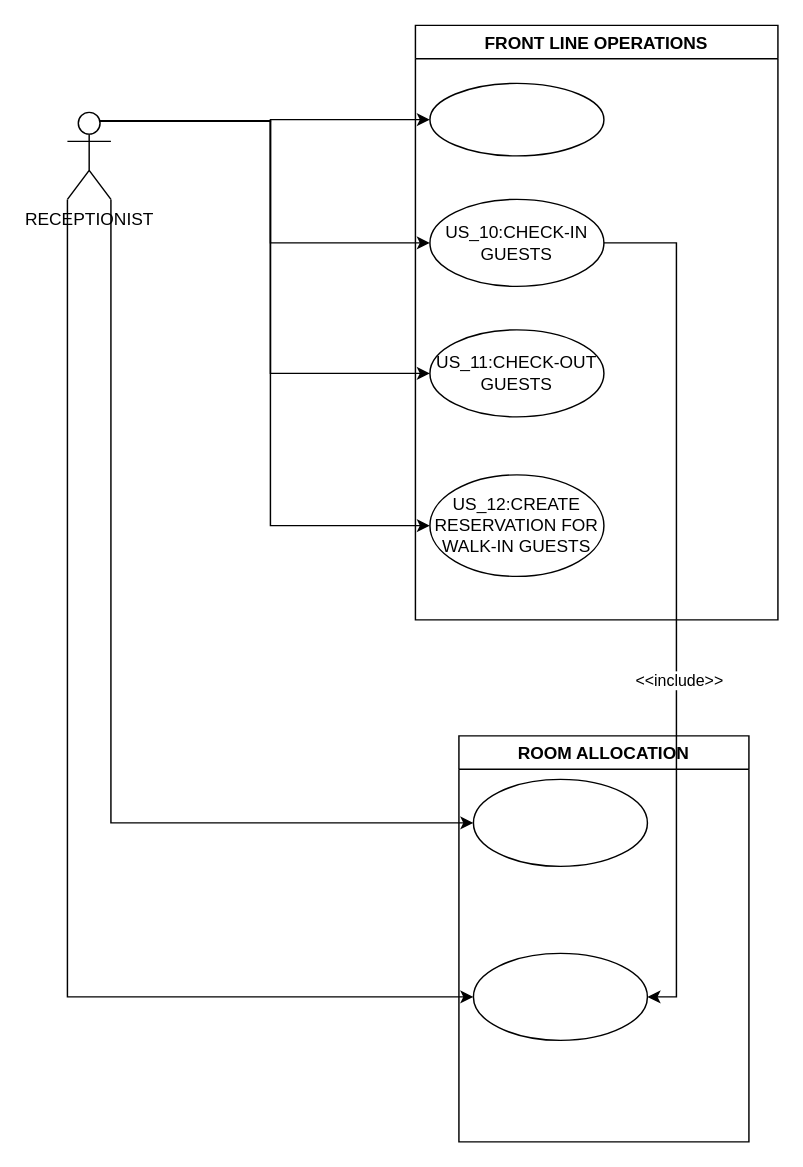
Some shapes in this 803 by 1167 pixel diagram are drawn without their labels. Here are the shapes that lost their labels. From the top down, the centre of each, then its label:
pixel 516 119: US_09:VIEW RESERVATIONS
pixel 559 822: US_13:UPDATE RESERVATION DETAILS
pixel 559 996: US_14:ASSIGN ROOMS
